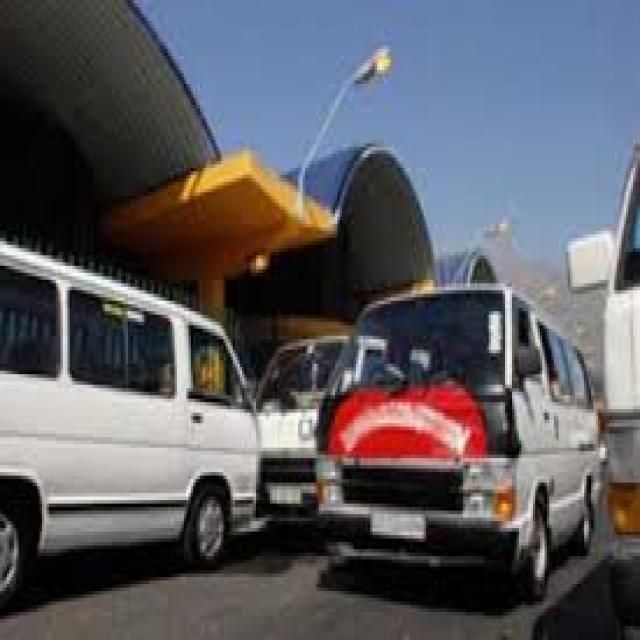MiniBus taxi: (2, 234, 268, 612), (316, 283, 554, 595)
